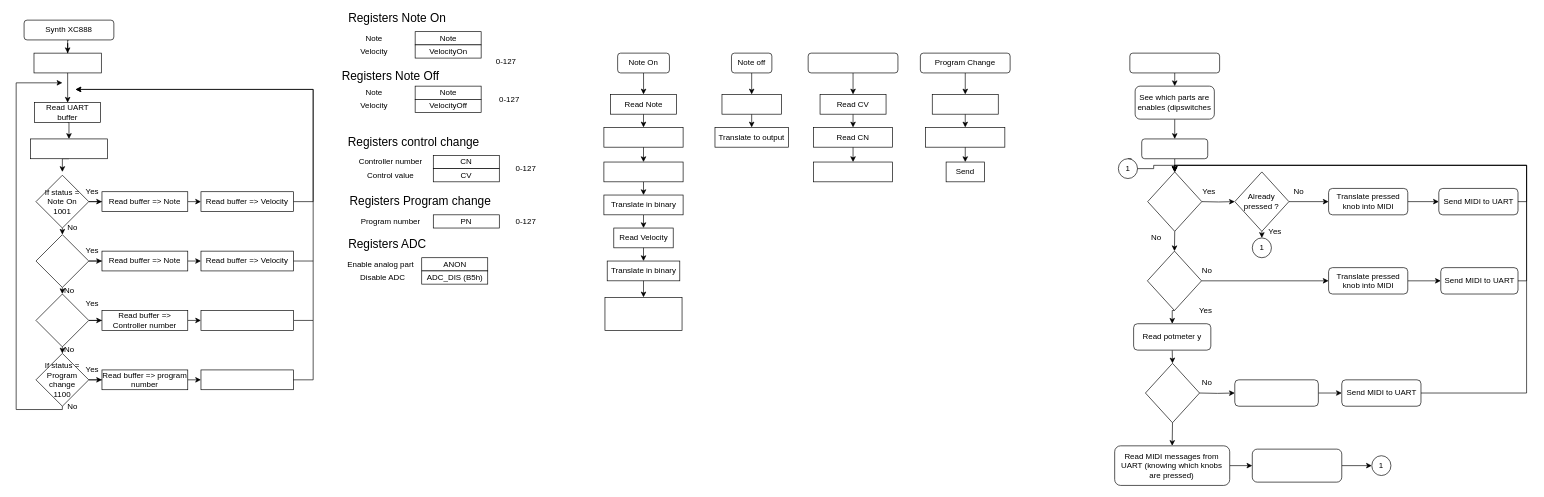
Image size: 1544x497. Some labels were removed from this diagram. Here are the shapes that lost their labels. From the top down, the centre of each, then its label:
At (67,62): "Init UART".
At (853,62): "Control Change".
At (1174,62): "XC888 MIDI".
At (751,104): "Velocity = 0".
At (965,104): "Read PN".
At (69,148): "Get 4 MSB => status".
At (643,137): "Translate in decimal".
At (965,137): "Translate to pins".
At (1174,148): "Init all ports".
At (643,171): "f = 55 * 12V2 ^note".
At (853,171): "Send CV to CN".
At (1174,201): "knob x is pressed".
At (62,260): "If status = Note Off 1000".
At (1174,280): "Already not- pressed ?".
At (62,320): "If status = Control change 1011".
At (246,320): "Read buffer => value".
At (643,313): "Send to output: Note Velocity".
At (246,379): "Read buffer => Go away".
At (1172,393): "Value is prev value ?".
At (1276,392): "Translate slider to MIDI".
At (1297,465): "Controlling the led's for which knob is pressed".
